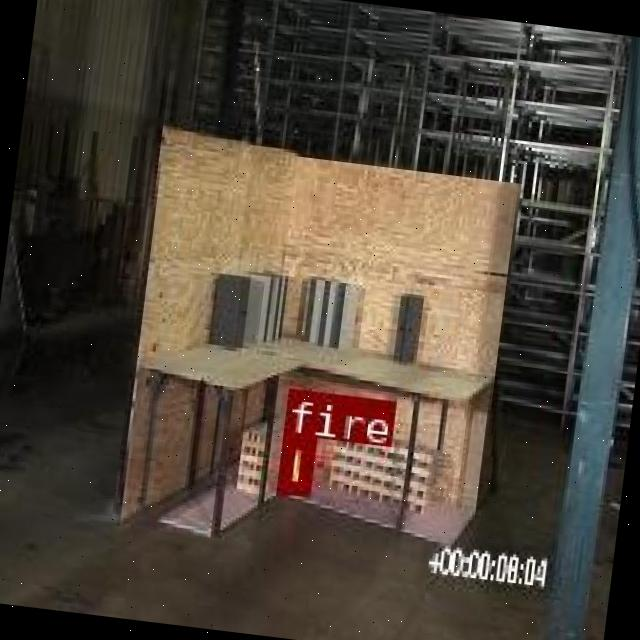fire: (274, 432, 313, 492)
